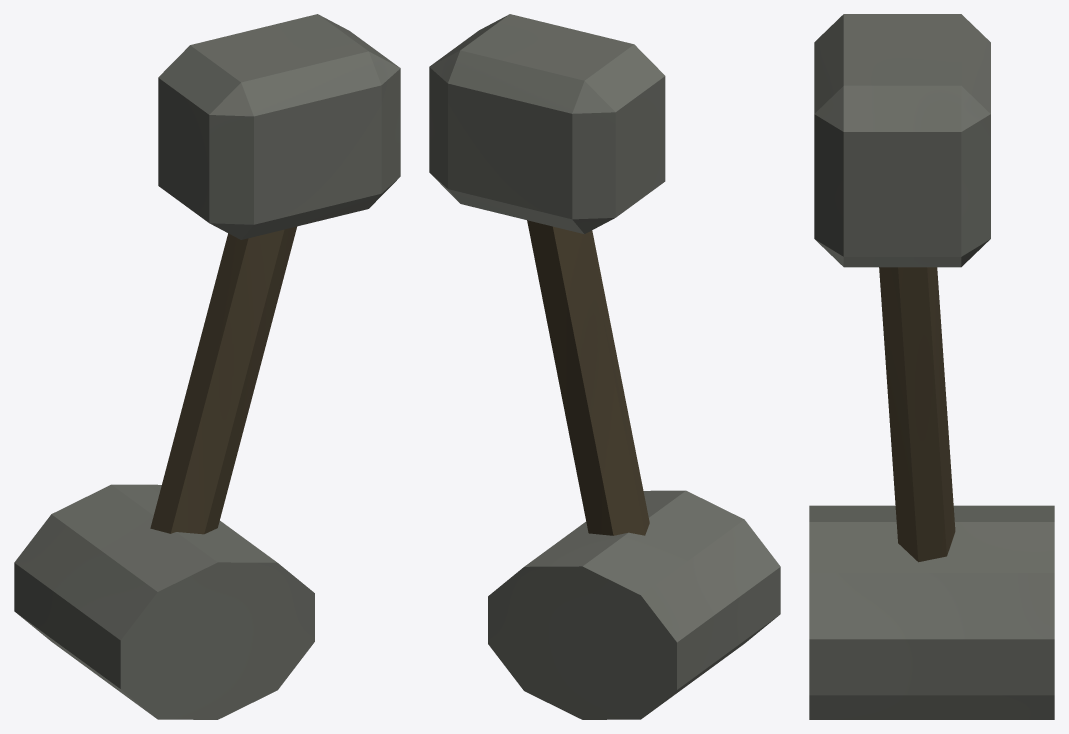
The model's file is WarrensC_WVC039_BacksideBarLeverSkin_Mars_SM.fbx.
The picture shows the model from 3 angles, left to right: view 1: azimuth 30°, elevation 25°; view 2: azimuth 150°, elevation 25°; view 3: azimuth 270°, elevation 25°; orthographic projection. The views are drawn at different scales.
Parts seen in each view (by area): view 1: WarrensC_WVC039_BacksideBarLeverSkin_Mars_SM.001; view 2: WarrensC_WVC039_BacksideBarLeverSkin_Mars_SM.001; view 3: WarrensC_WVC039_BacksideBarLeverSkin_Mars_SM.001.
Part boxes in pixels (<box>): WarrensC_WVC039_BacksideBarLeverSkin_Mars_SM.001: <box>14,14,400,719</box>; WarrensC_WVC039_BacksideBarLeverSkin_Mars_SM.001: <box>429,14,780,719</box>; WarrensC_WVC039_BacksideBarLeverSkin_Mars_SM.001: <box>809,14,1054,719</box>.
Size of the model in its own units: 40 by 25 by 80.
